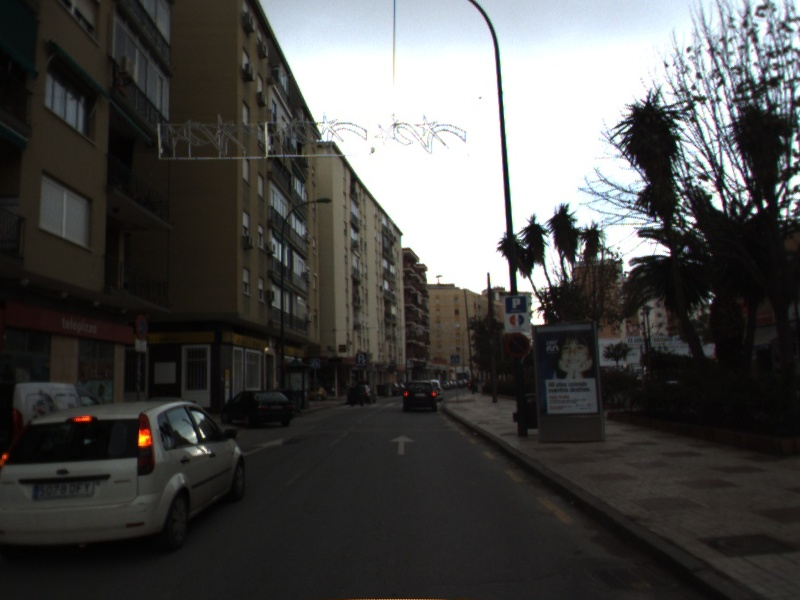STRAIGHT: (242, 436, 286, 458), (387, 433, 417, 457)
